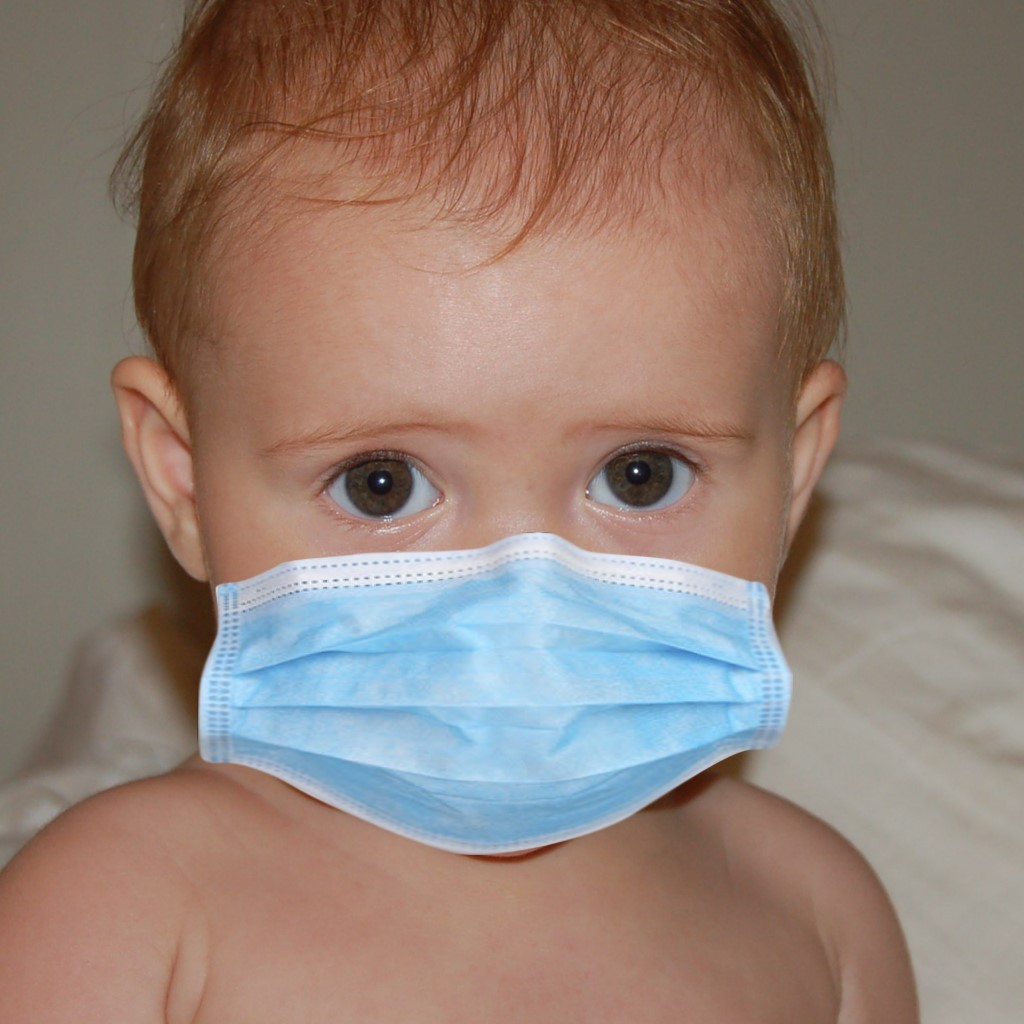con_mascara: (170, 48, 797, 836)
